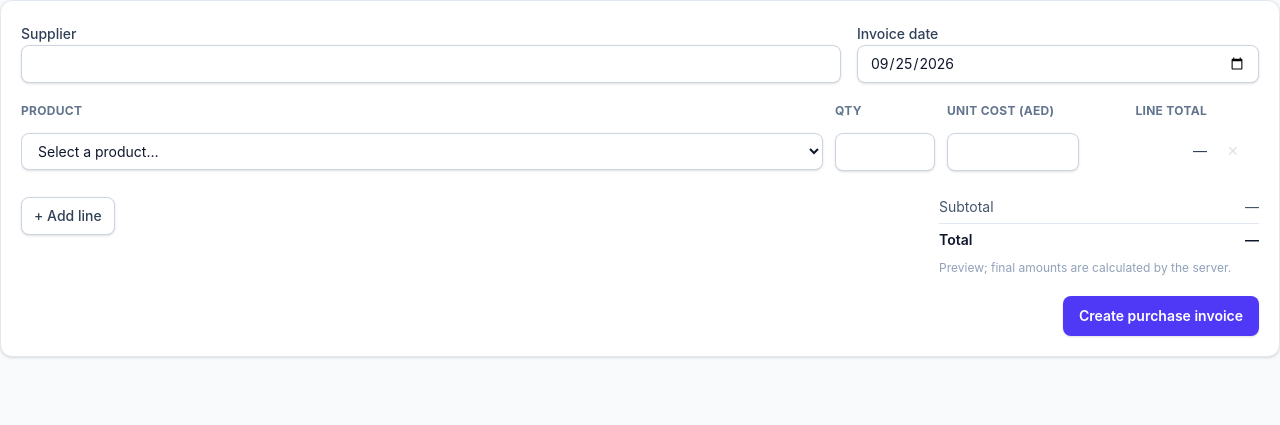
Test: PurchaseForm › computes line totals and the preview total as you type (tax disabled: no tax row)
Check: the text with test id "preview-total" reads "—", box 1245,231 -> 1259,248
Select "Mechanical Keyboard (KB-MECH-001)" in the dropdown named "Product for line 1" at coordinates (422, 152), box 21,133 -> 823,170
Type "10" into the number field named "Quantity for line 1".
click(885, 152); type("10")  # box 835,133 -> 935,171
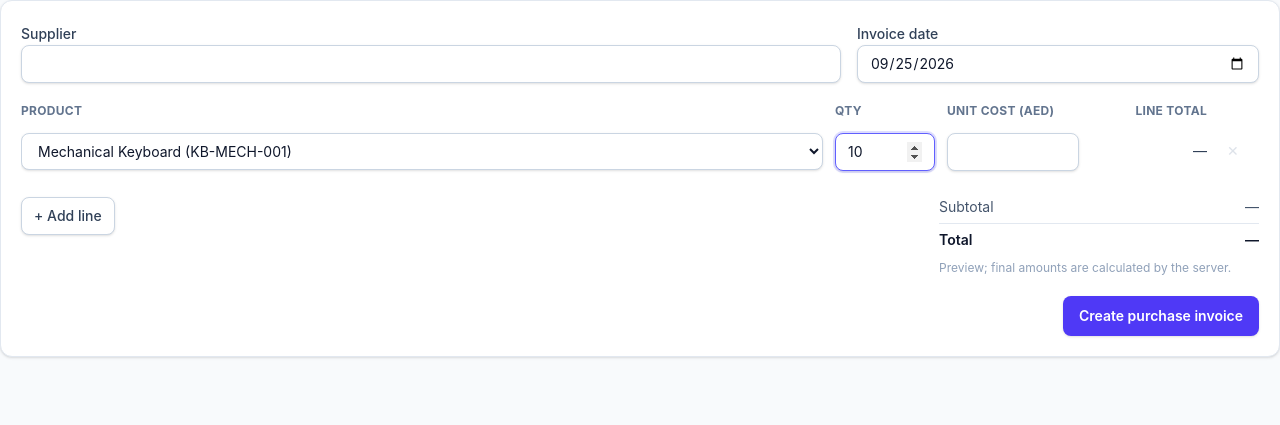
Type "45" into the number field named "Unit cost for line 1".
click(1013, 152); type("45")  # box 947,133 -> 1079,171
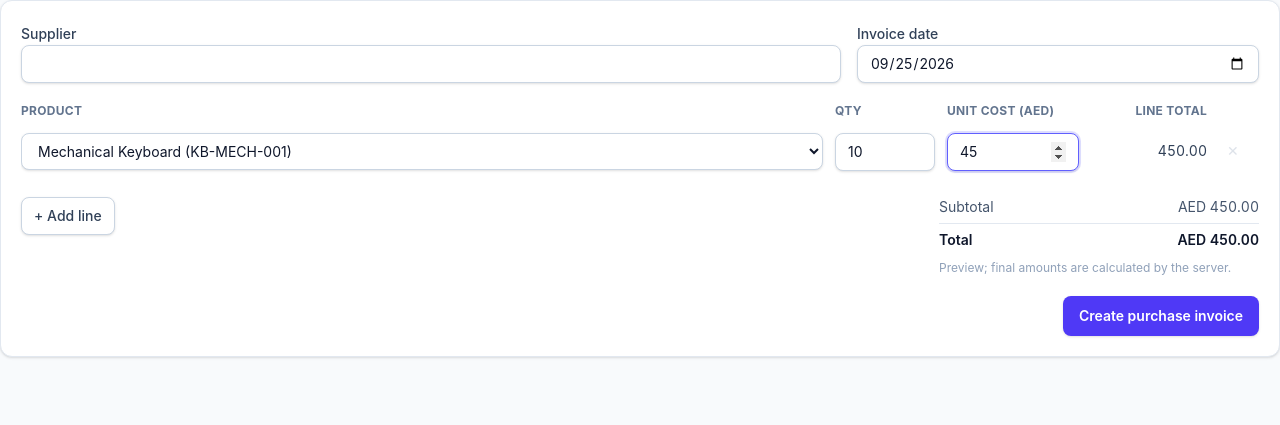
Check: the cell "450.00" is shown, box 1091,127 -> 1219,177
Check: the text with test id "preview-total" reads "AED 450.00", box 1177,231 -> 1259,248
Click the button "+ Add line".
click(68, 216)  # box 21,197 -> 115,235
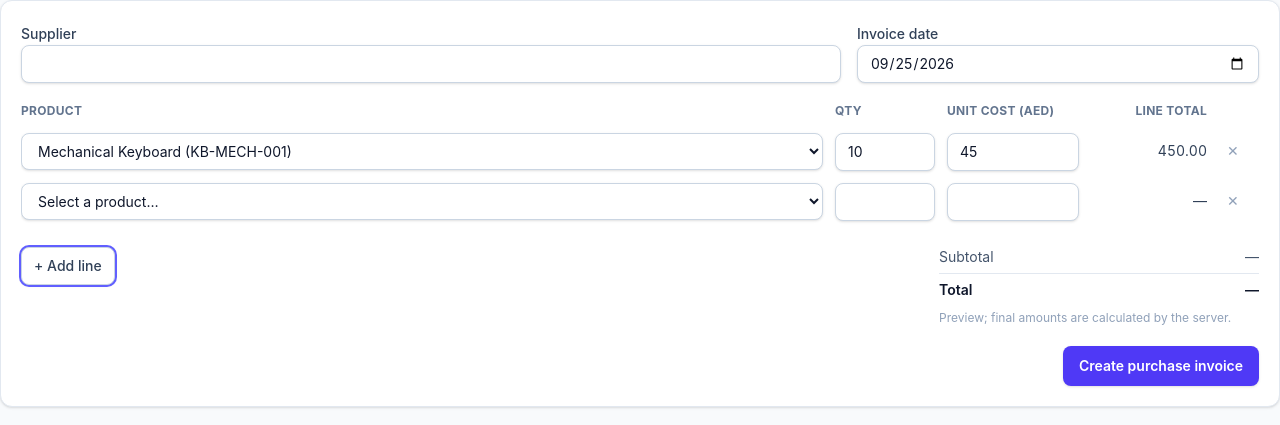
Select "27\" 4K Monitor (MN-4K-027)" in the dropdown named "Product for line 2" at coordinates (422, 202), box 21,183 -> 823,220
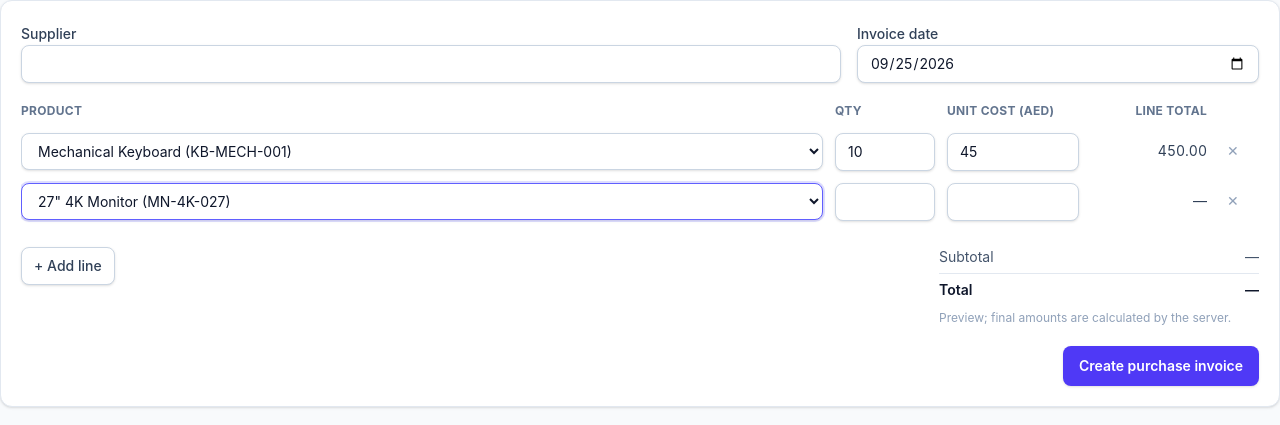
Type "25" into the number field named "Quantity for line 2".
click(885, 202); type("25")  # box 835,183 -> 935,221
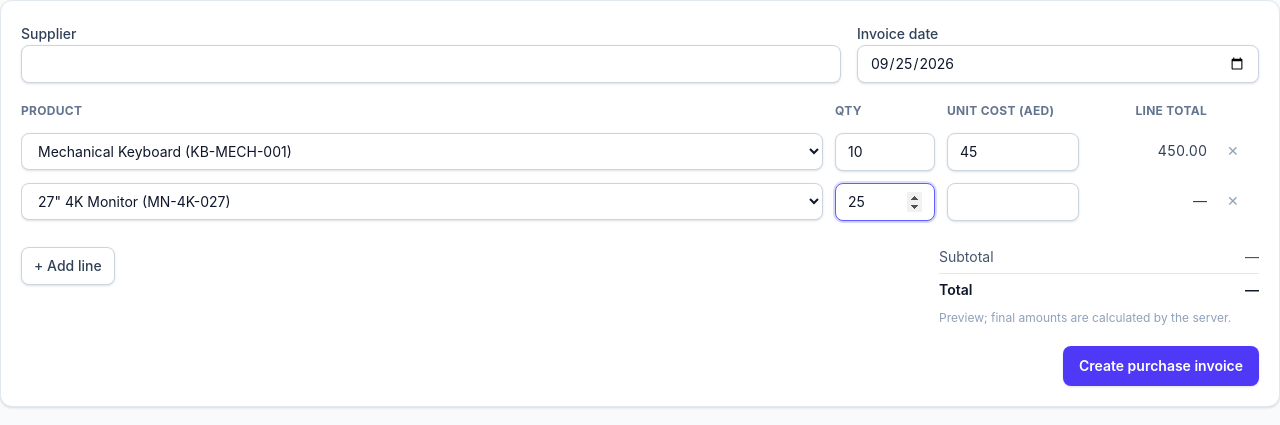
Type "12.50" into the number field named "Unit cost for line 2".
click(1013, 202); type("12.50")  # box 947,183 -> 1079,221
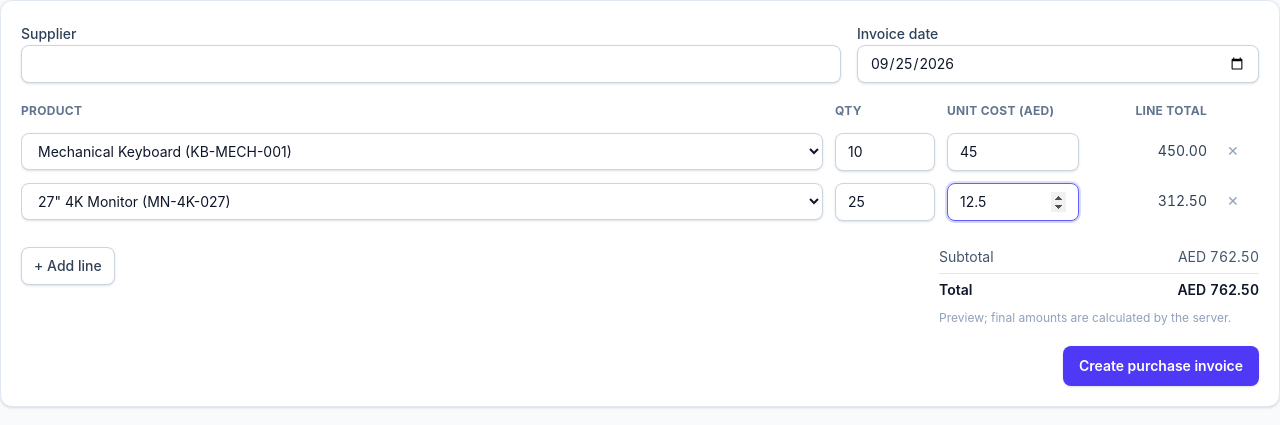
Check: the text with test id "preview-subtotal" reads "AED 762.50", box 1178,248 -> 1259,265
Check: the text with test id "preview-total" reads "AED 762.50", box 1177,281 -> 1259,298
